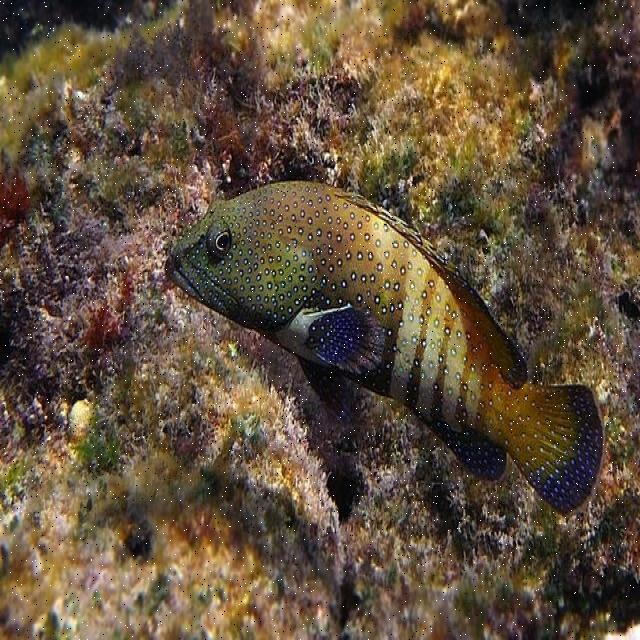fish: (165, 180, 603, 516)
